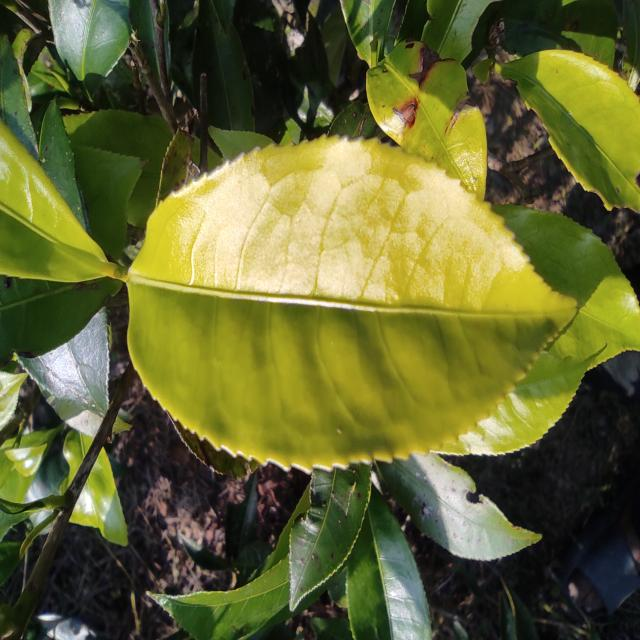Category B(2-4 days): (106, 121, 583, 483)
